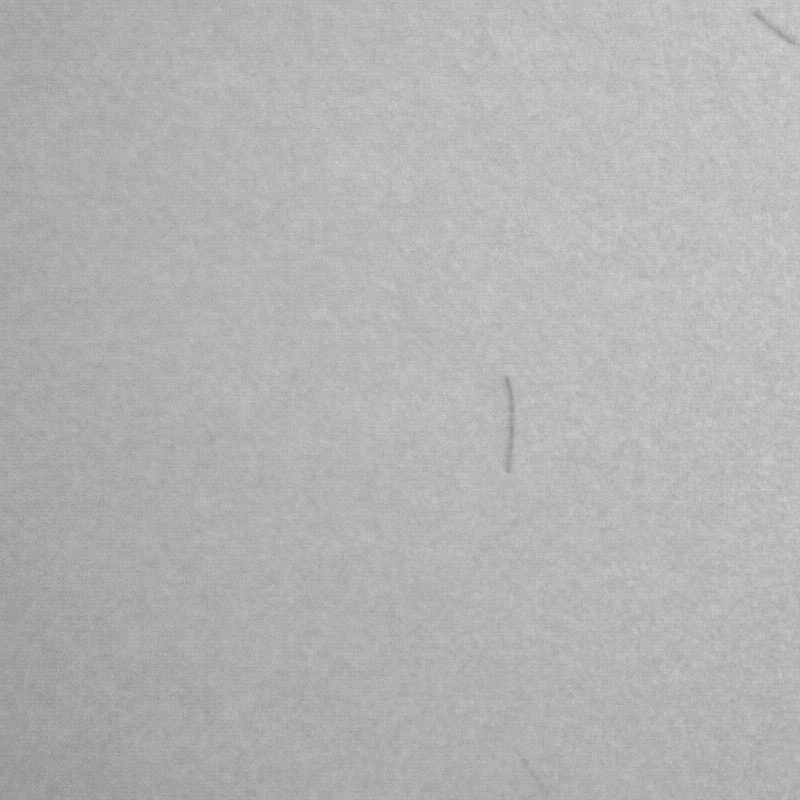defect: (752, 5, 800, 46), (502, 375, 518, 479), (523, 761, 550, 798)
